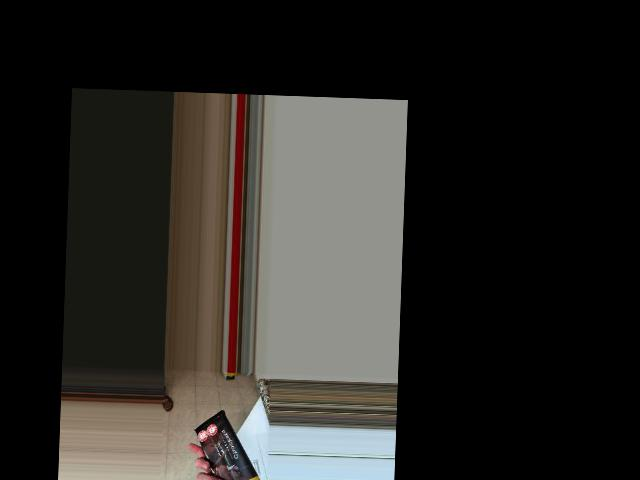chocolate: (193, 405, 271, 480)
